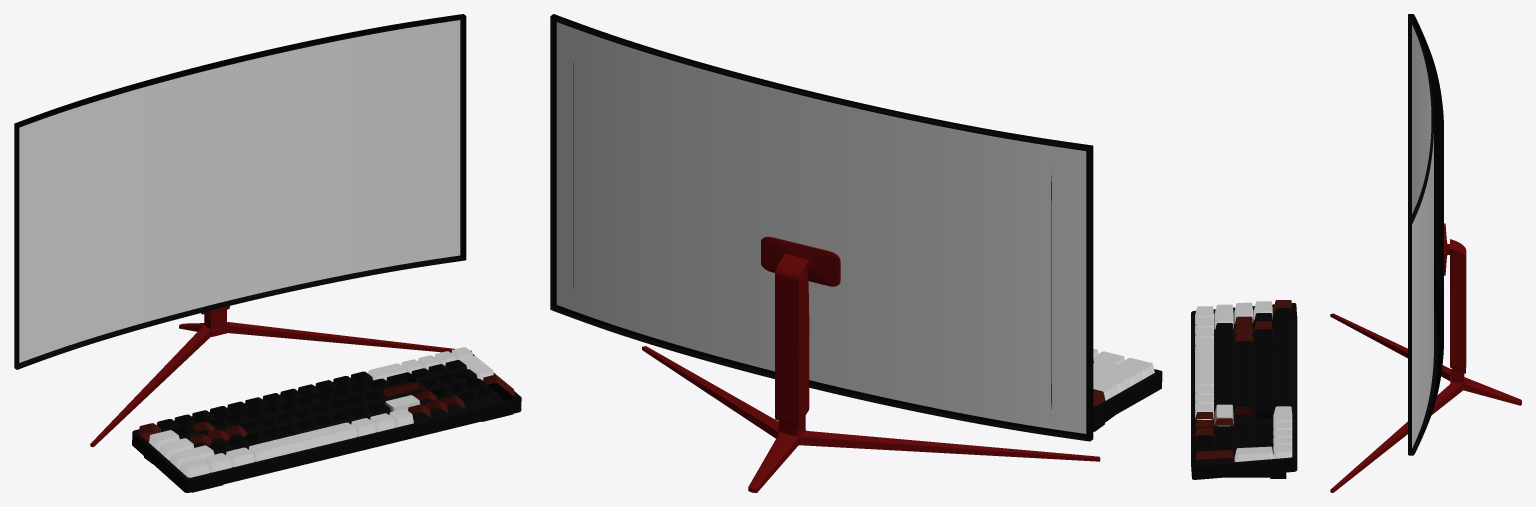
File: pc-mingtu-mobile.glb
3 renders of one model, left to right at view 1: azimuth 30°, elevation 25°; view 2: azimuth 150°, elevation 25°; view 3: azimuth 270°, elevation 25°, orthographic. The views are drawn at different scales.
Parts seen in each view (by area): view 1: Plane.001, base.001, Black Keys.001, Grey Keys.001, Cube.004, Red keys.001, Cube.003; view 2: Plane.001, Cube.003, Cube.004, Grey Keys.001, base.001, Cube.005; view 3: Plane.001, Black Keys.001, base.001, Grey Keys.001, Cube.003, Cube.004, Red keys.001, Cube.005.
Part boxes in pixels (left/top/right/bottom): Plane.001: left=14, top=14, right=466, bottom=369; base.001: left=132, top=354, right=521, bottom=492; Black Keys.001: left=157, top=360, right=498, bottom=451; Grey Keys.001: left=149, top=347, right=493, bottom=477; Cube.004: left=90, top=322, right=471, bottom=446; Red keys.001: left=139, top=374, right=515, bottom=445; Cube.003: left=201, top=306, right=229, bottom=336; Plane.001: left=550, top=14, right=1093, bottom=441; Cube.003: left=761, top=236, right=840, bottom=436; Cube.004: left=642, top=346, right=1100, bottom=461; Grey Keys.001: left=1093, top=349, right=1154, bottom=400; base.001: left=1093, top=369, right=1162, bottom=431; Cube.005: left=748, top=432, right=798, bottom=492; Plane.001: left=1408, top=14, right=1443, bottom=455; Black Keys.001: left=1195, top=308, right=1292, bottom=452; base.001: left=1191, top=303, right=1297, bottom=479; Grey Keys.001: left=1195, top=301, right=1292, bottom=461; Cube.003: left=1444, top=223, right=1466, bottom=383; Cube.004: left=1330, top=313, right=1464, bottom=492; Red keys.001: left=1194, top=300, right=1292, bottom=460; Cube.005: left=1464, top=377, right=1521, bottom=405.
Bounding box in the file's own units: 3.85 × 2.46 × 2.57.
